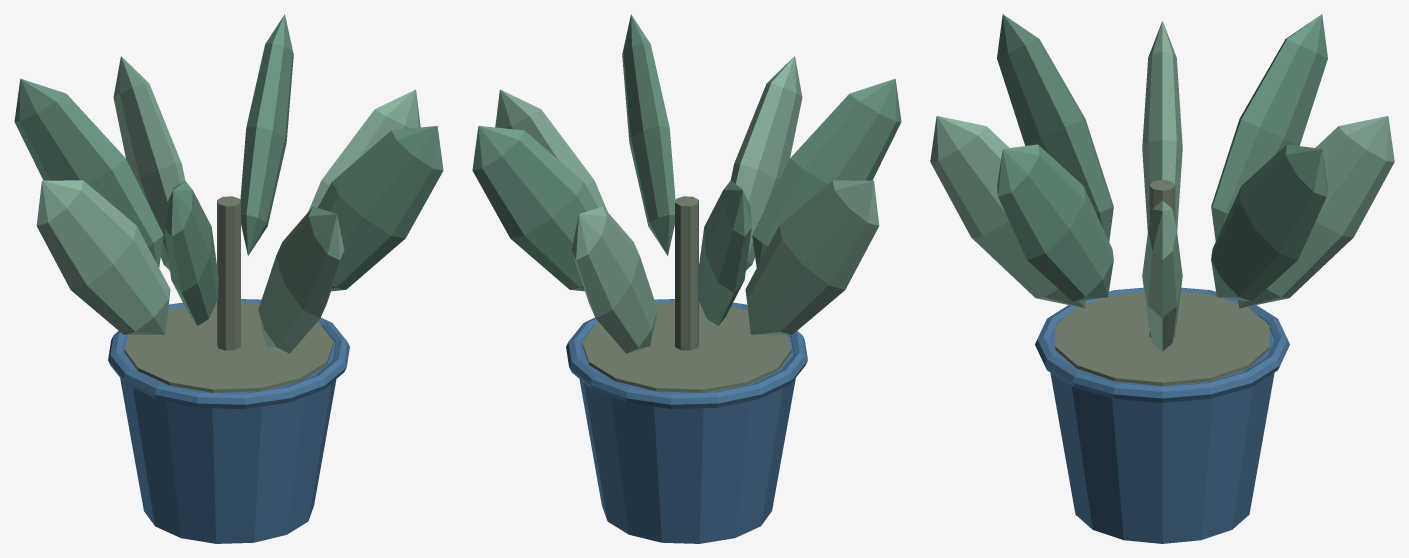
File: fern_floor_pot.glb
3 renders of one model, left to right at view 1: azimuth 30°, elevation 25°; view 2: azimuth 150°, elevation 25°; view 3: azimuth 270°, elevation 25°, orthographic. The views are drawn at different scales.
Visible parts, largest first — view 1: fern_frond (×8), fern_pot, fern_soil, fern_lip, fern_stem; view 2: fern_frond (×8), fern_pot, fern_soil, fern_lip, fern_stem; view 3: fern_frond (×8), fern_pot, fern_soil, fern_lip, fern_stem.
Boxes of the visible parts, x1,y1,x2,y2 form: fern_frond (×8): (14,14,443,353); fern_pot: (120,326,336,543); fern_soil: (124,302,333,392); fern_lip: (108,299,349,408); fern_stem: (217,196,240,350); fern_frond (×8): (472,14,901,353); fern_pot: (579,326,795,543); fern_soil: (582,302,791,392); fern_lip: (566,299,807,408); fern_stem: (675,196,698,350); fern_frond (×8): (930,14,1394,351); fern_pot: (1050,317,1274,543); fern_soil: (1055,291,1269,385); fern_lip: (1035,287,1289,402); fern_stem: (1149,179,1175,337).
Size of the model in its own units: 0.8589 by 0.8666 by 0.8589.
